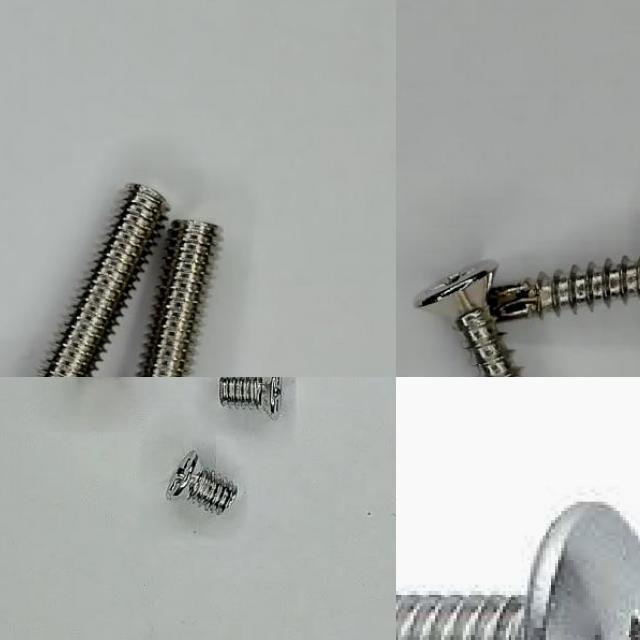Screw: (396, 502, 640, 640), (40, 184, 168, 377), (414, 261, 522, 377), (139, 220, 216, 377), (484, 257, 640, 322), (166, 451, 238, 514), (218, 377, 282, 419)
